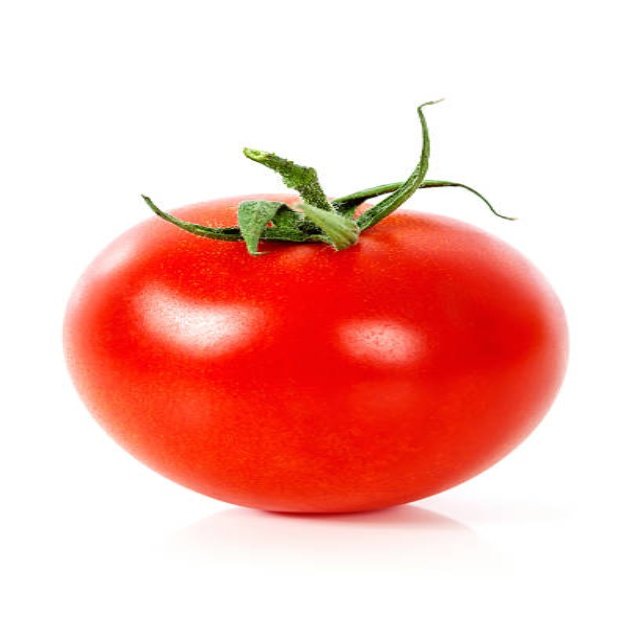tomato: (66, 187, 586, 525)
